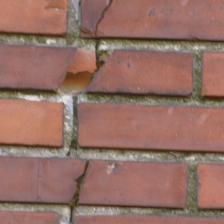Crack: (0, 20, 102, 98), (0, 0, 55, 130)
